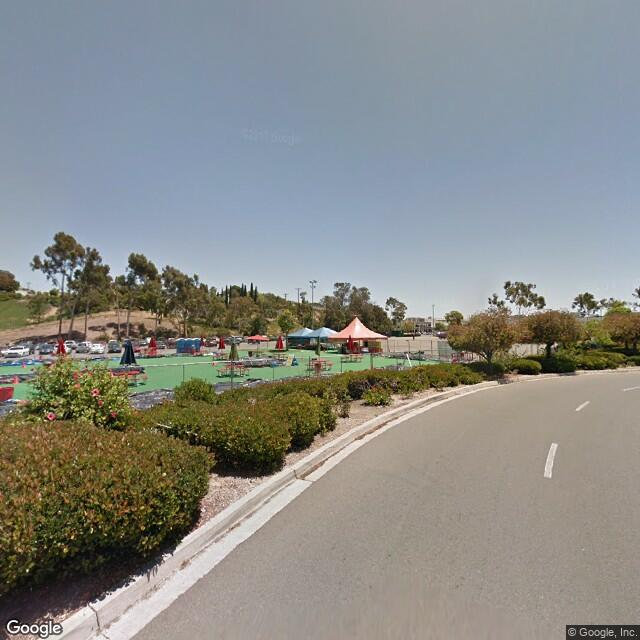litter: (201, 504, 209, 514), (43, 611, 53, 619)
